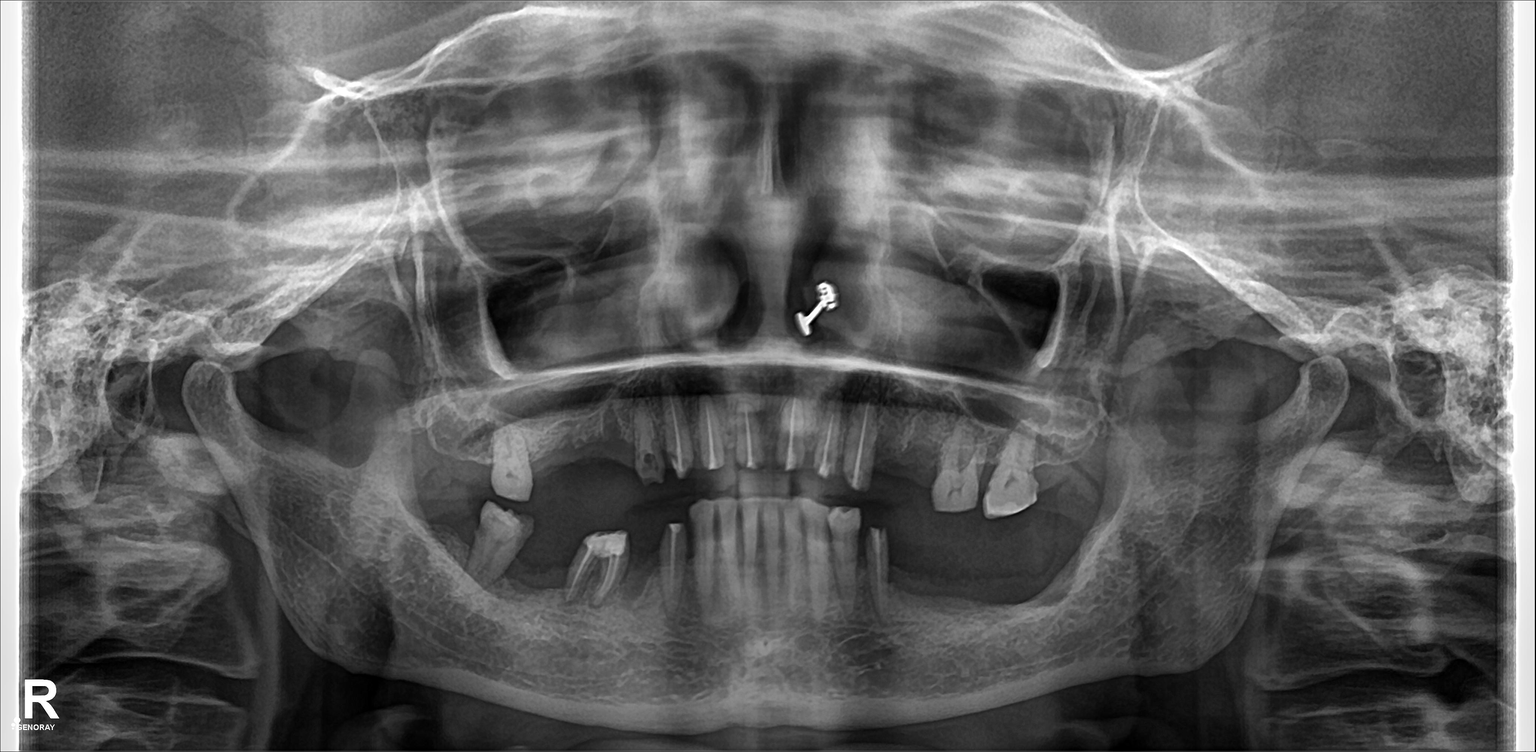Dental Caries: (574, 532, 621, 599)
Endodontically Treated Tooth: (661, 517, 688, 608), (661, 404, 694, 477), (805, 398, 836, 475), (728, 398, 760, 466), (849, 398, 870, 480), (702, 396, 724, 474), (775, 391, 797, 469)
Missing Tooth: (892, 530, 939, 606), (1035, 410, 1076, 493), (952, 530, 995, 609), (1045, 521, 1086, 599), (531, 421, 571, 489), (907, 415, 939, 498), (415, 417, 450, 492), (1004, 523, 1035, 599), (438, 508, 475, 570), (583, 419, 614, 486), (881, 402, 907, 481), (466, 421, 493, 487)
Retained Root: (620, 406, 661, 480), (629, 521, 666, 600), (529, 517, 571, 585)
